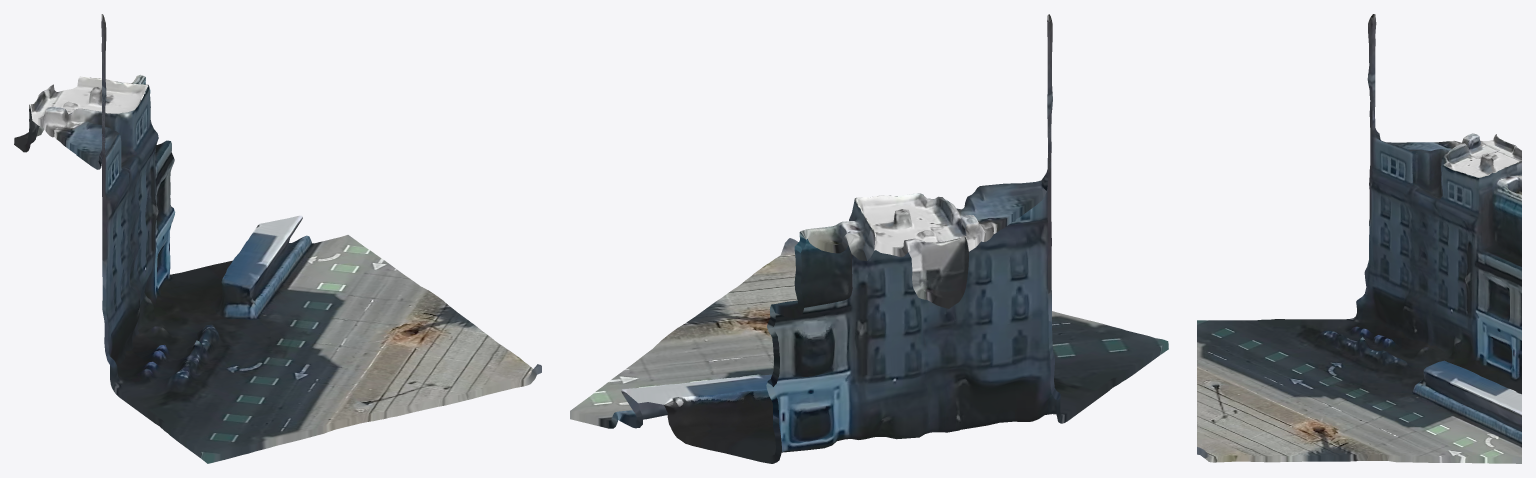
Rendered from z20-167795-405229-h0-yup-uvflip-v3-world.glb.
The picture shows the model from 3 angles, left to right: view 1: azimuth 30°, elevation 25°; view 2: azimuth 150°, elevation 25°; view 3: azimuth 270°, elevation 25°; orthographic projection. The views are drawn at different scales.
Size of the model in its own units: 30.2 by 32.28 by 30.32.
Materials: 1 (1 with a texture image).
